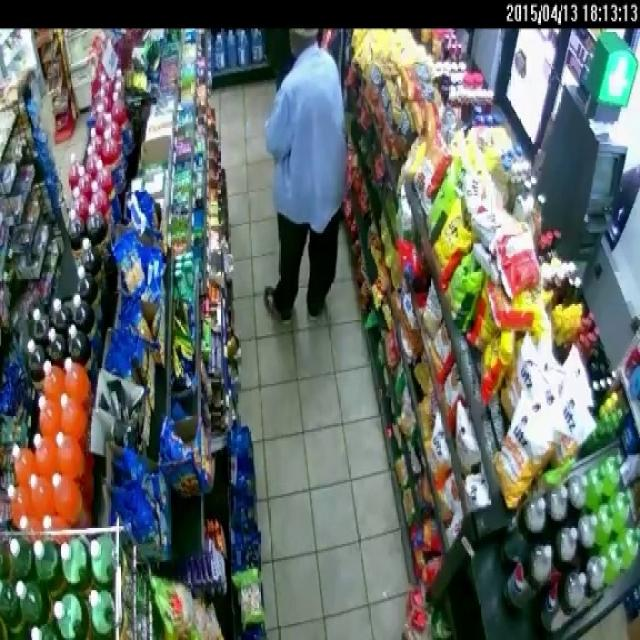normal: (238, 24, 362, 359)
